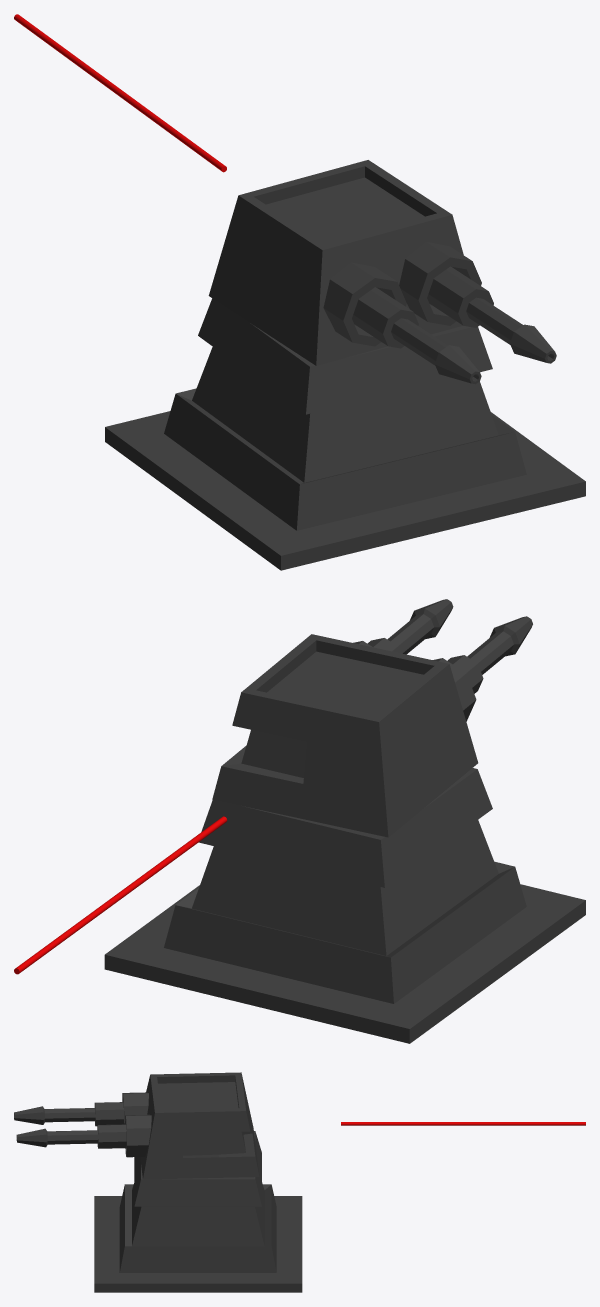
Rendered from laser.fbx.
3 views of the same model, one above another, from view 1: azimuth 30°, elevation 25°; view 2: azimuth 150°, elevation 25°; view 3: azimuth 270°, elevation 25° (orthographic). The views are drawn at different scales.
Parts seen in each view (by area): view 1: Plane, Plane.001, Circle.001, Circle, Cylinder; view 2: Plane, Plane.001, Circle.001, Circle, Cylinder; view 3: Plane, Plane.001, Circle, Circle.001, Cylinder.
Part boxes in pixels (bbox=[...]): Plane: bbox=[105, 298, 585, 570]; Plane.001: bbox=[208, 160, 463, 365]; Circle.001: bbox=[323, 262, 481, 384]; Circle: bbox=[399, 242, 556, 363]; Cylinder: bbox=[14, 14, 226, 172]; Plane: bbox=[104, 768, 585, 1043]; Plane.001: bbox=[212, 634, 478, 837]; Circle.001: bbox=[432, 616, 532, 721]; Circle: bbox=[353, 599, 453, 654]; Cylinder: bbox=[14, 816, 227, 974]; Plane: bbox=[94, 1131, 302, 1292]; Plane.001: bbox=[140, 1072, 259, 1179]; Circle: bbox=[16, 1114, 151, 1157]; Circle.001: bbox=[14, 1092, 148, 1126]; Cylinder: bbox=[341, 1122, 585, 1125].
Bounding box in the file's own units: 231 × 191 × 636.
